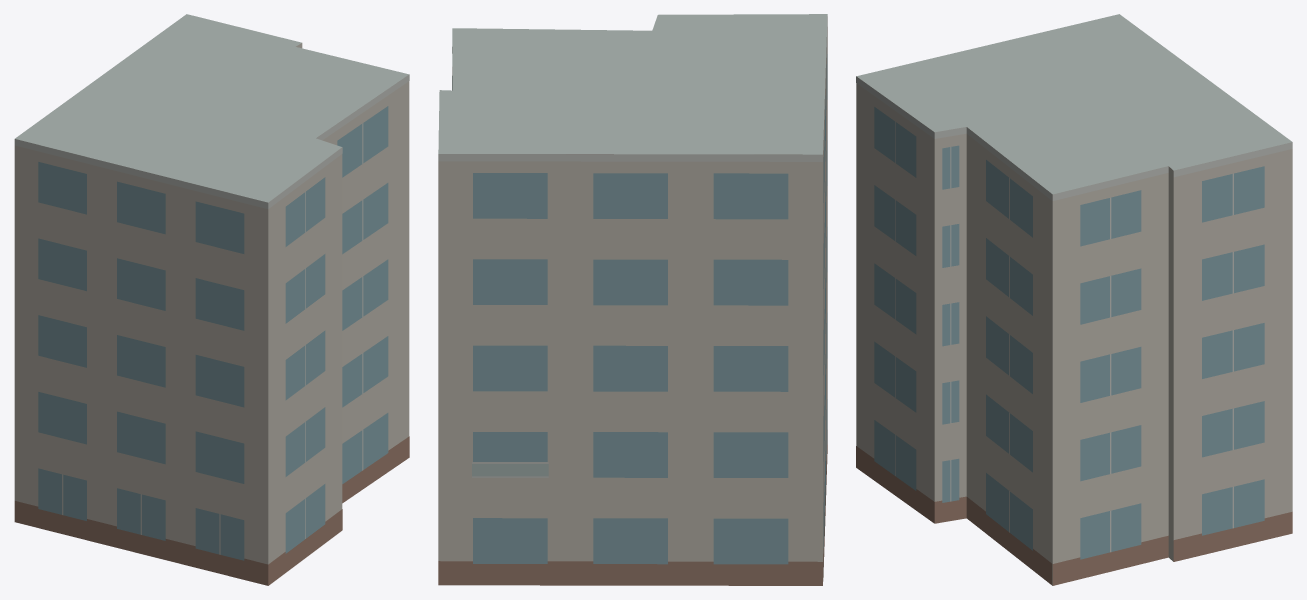
The model's file is survey-upis-32929530.glb.
3 views of the same model, side by side, from view 1: azimuth 30°, elevation 25°; view 2: azimuth 150°, elevation 25°; view 3: azimuth 270°, elevation 25° (orthographic). The views are drawn at different scales.
Visible parts, largest first — view 1: survey-upis-32929530.tmp; view 2: survey-upis-32929530.tmp; view 3: survey-upis-32929530.tmp.
Boxes of the visible parts, x1,y1,x2,y2 form: survey-upis-32929530.tmp: (14,14,409,585); survey-upis-32929530.tmp: (438,14,827,585); survey-upis-32929530.tmp: (856,14,1292,585).
Bounding box in the file's own units: 14.02 × 14.17 × 14.33.
